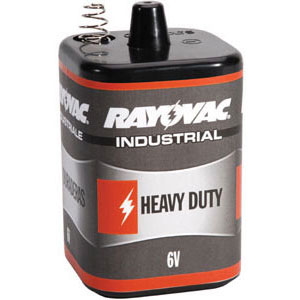6V: (50, 4, 251, 296)
